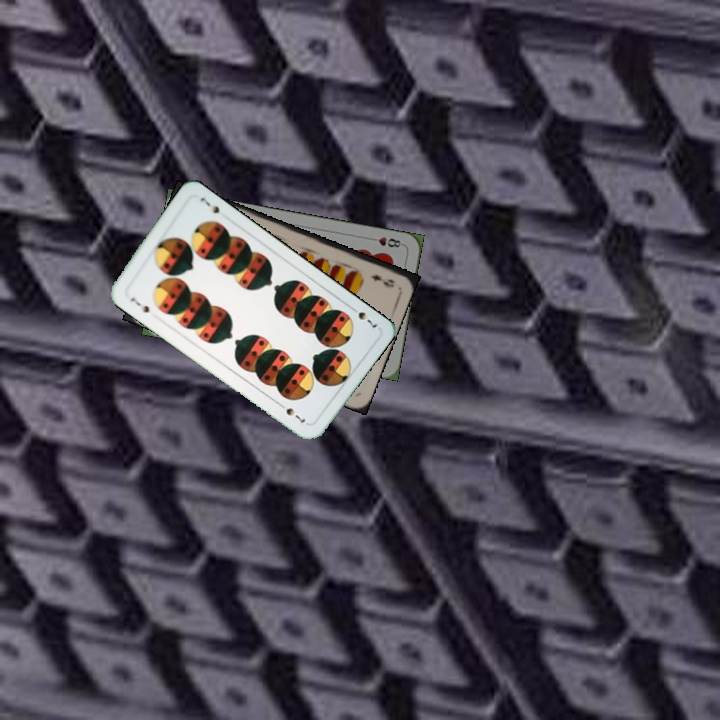E9: (366, 270, 397, 290)
H8: (365, 233, 406, 250)
S7: (346, 302, 381, 330), (126, 294, 157, 319)
